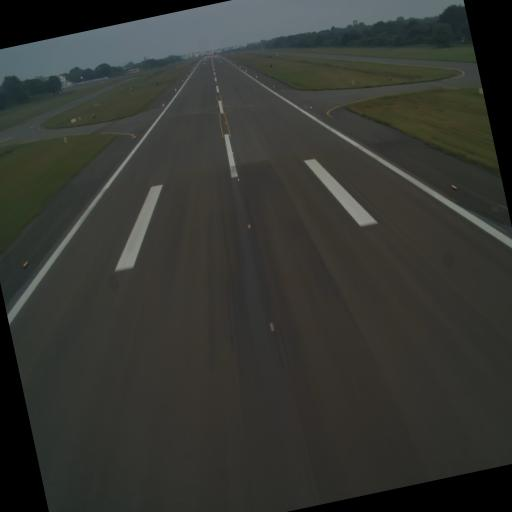on: (19, 255, 33, 274), (244, 218, 255, 234), (266, 318, 276, 334), (448, 178, 458, 192), (234, 175, 240, 184), (132, 132, 138, 140), (308, 104, 313, 110), (230, 148, 234, 154), (226, 132, 230, 138)
